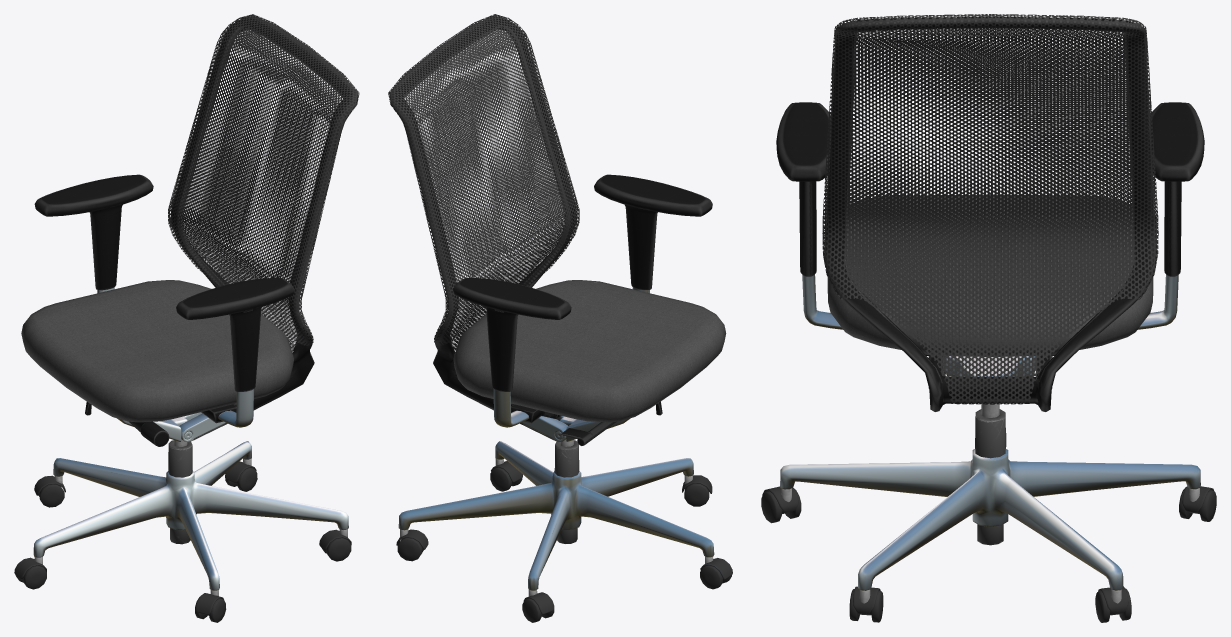
File: chair.fbx
The picture shows the model from 3 angles, left to right: view 1: azimuth 30°, elevation 25°; view 2: azimuth 150°, elevation 25°; view 3: azimuth 270°, elevation 25°; orthographic projection. The views are drawn at different scales.
Parts seen in each view (by area): view 1: Chair; view 2: Chair; view 3: Chair.
Boxes of the visible parts, x1,y1,x2,y2 form: Chair: [14, 14, 359, 622]; Chair: [388, 14, 732, 622]; Chair: [761, 14, 1216, 622].
Bounding box in the file's own units: 63.54 × 97.75 × 65.44.
